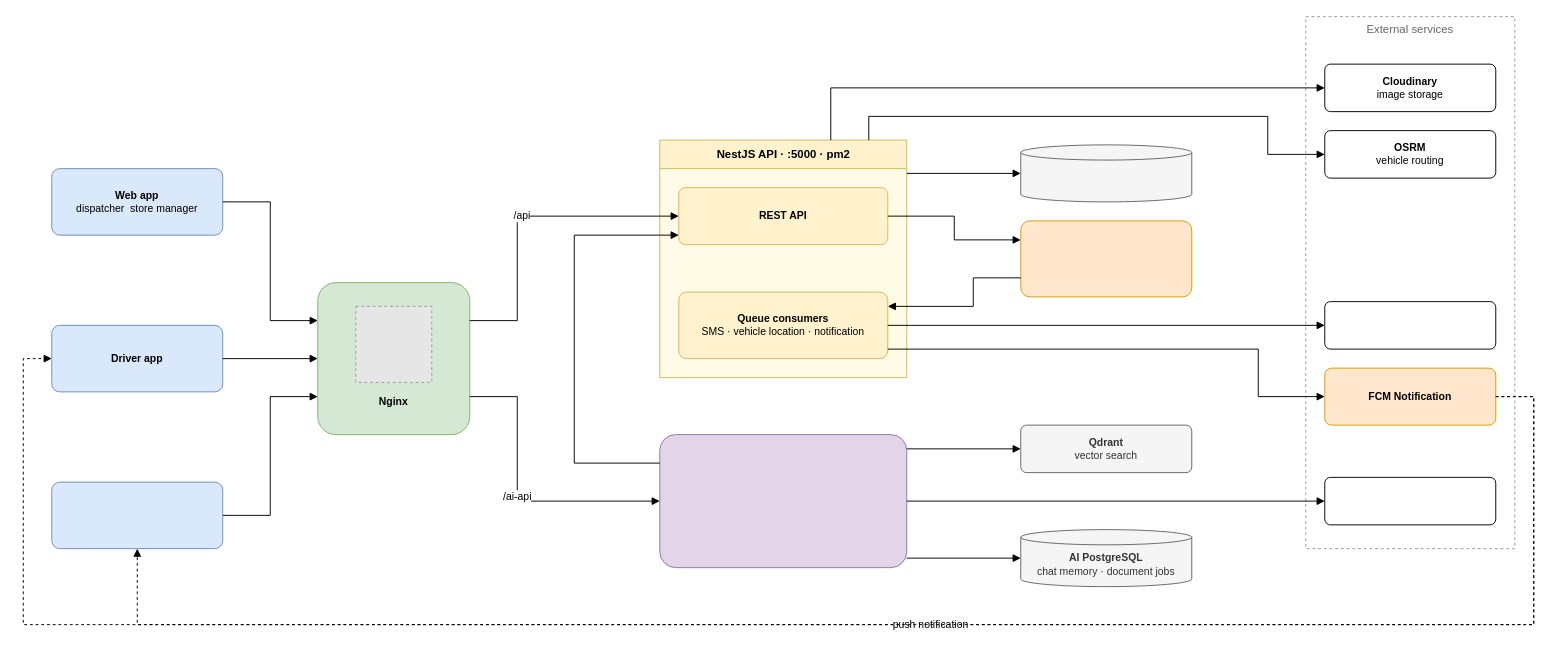
The diagram is 1558 pixels wide and 649 high, and some of its shapes have lost their labels. Grey dashed boxes stand in for pictures. Each missing label, with the box of its shape:
AI chatbot backend FastAPI · :8000: (659, 434, 907, 568)
Gemini LLM + embeddings: (1324, 476, 1496, 525)
Loader app: (51, 481, 223, 549)
PostgreSQL: (1020, 144, 1192, 202)
RabbitMQ sms_queue vehicle_location_queue notification_queue: (1020, 220, 1192, 297)
smsapi.lk SMS gateway: (1324, 301, 1496, 349)
